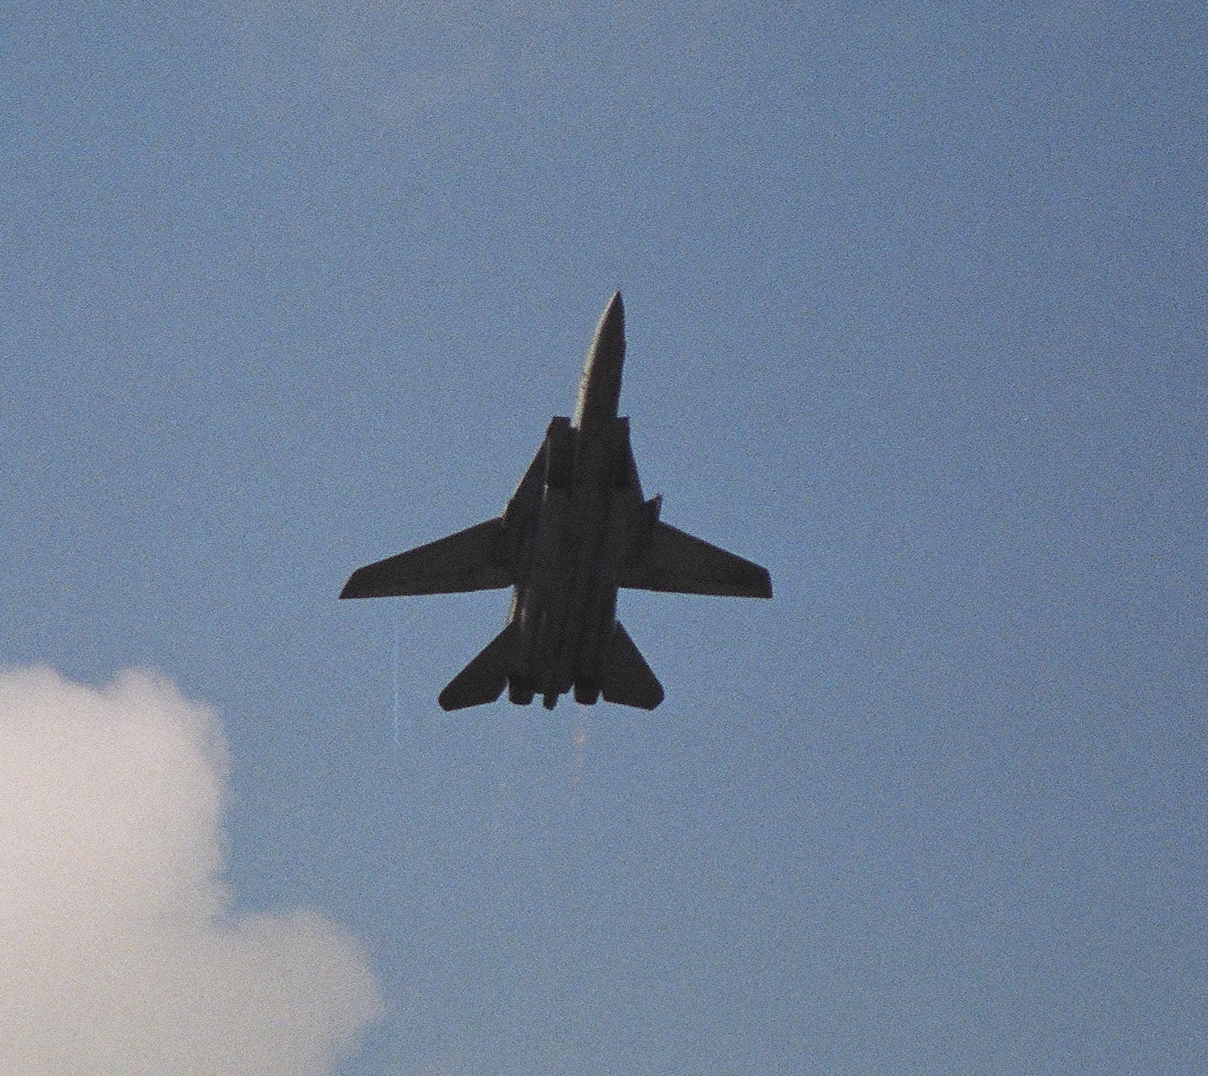F14: (338, 288, 774, 712)
